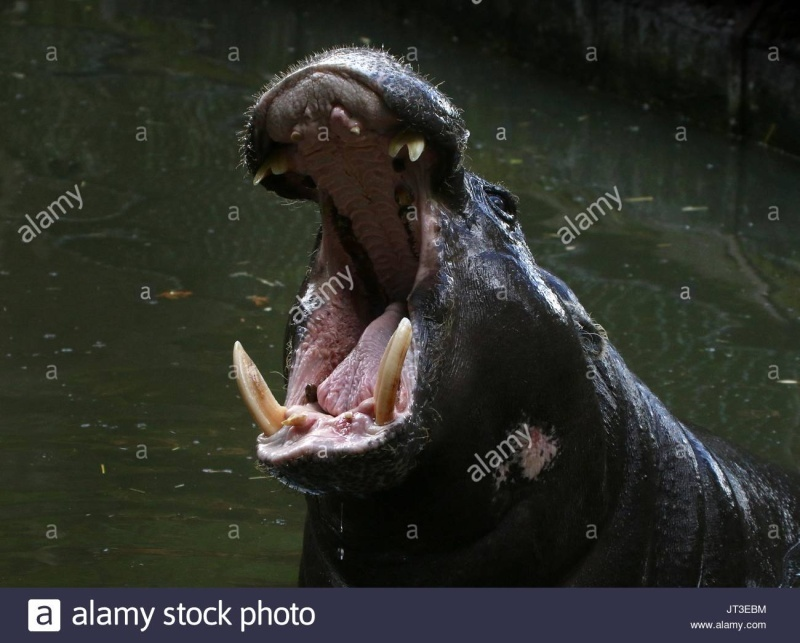hipopotamo: (211, 44, 800, 588)
